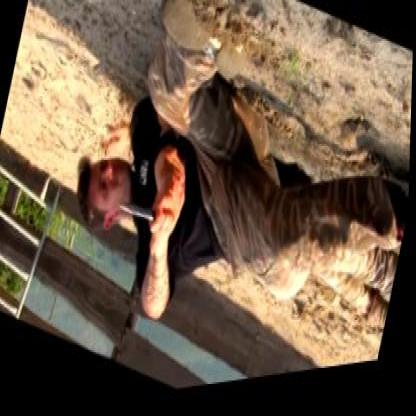knife: (112, 182, 177, 257)
